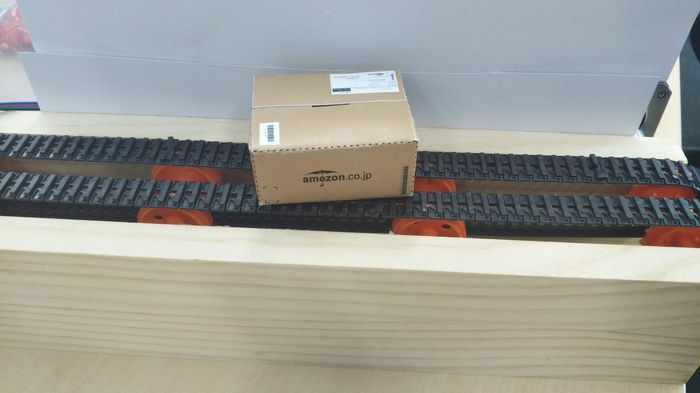box1: (242, 65, 419, 209)
